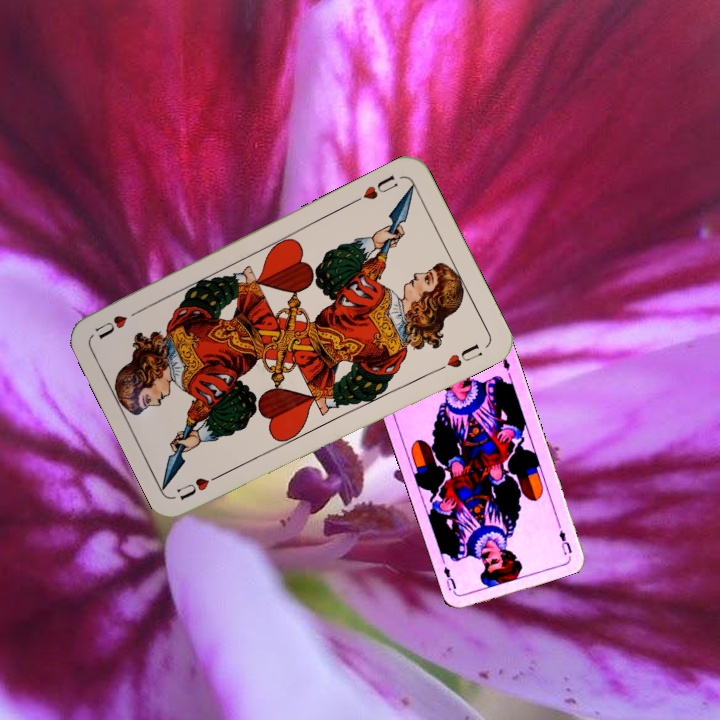EU: (555, 526, 575, 557)
HU: (174, 468, 228, 503), (349, 171, 401, 206)
